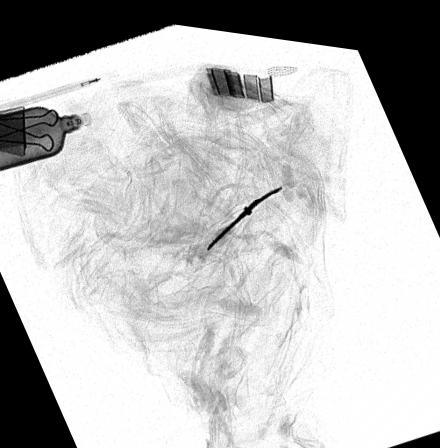Scissors: (199, 172, 287, 248)
